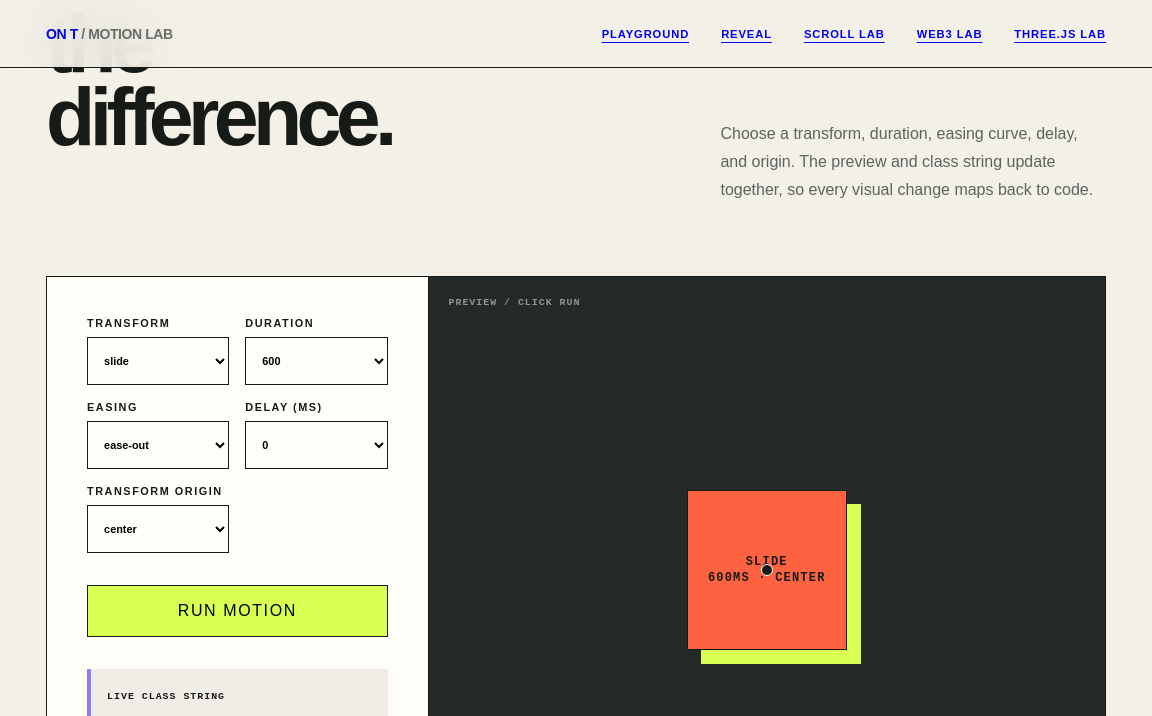
Test: MotionPracticePage › composes a motion class from the selected controls
The width and height of the screenshot is (1152, 716).
(page scrolled)
Select "pop" in the dropdown labelled "Transform" at (158, 361), box [87,337,229,385]
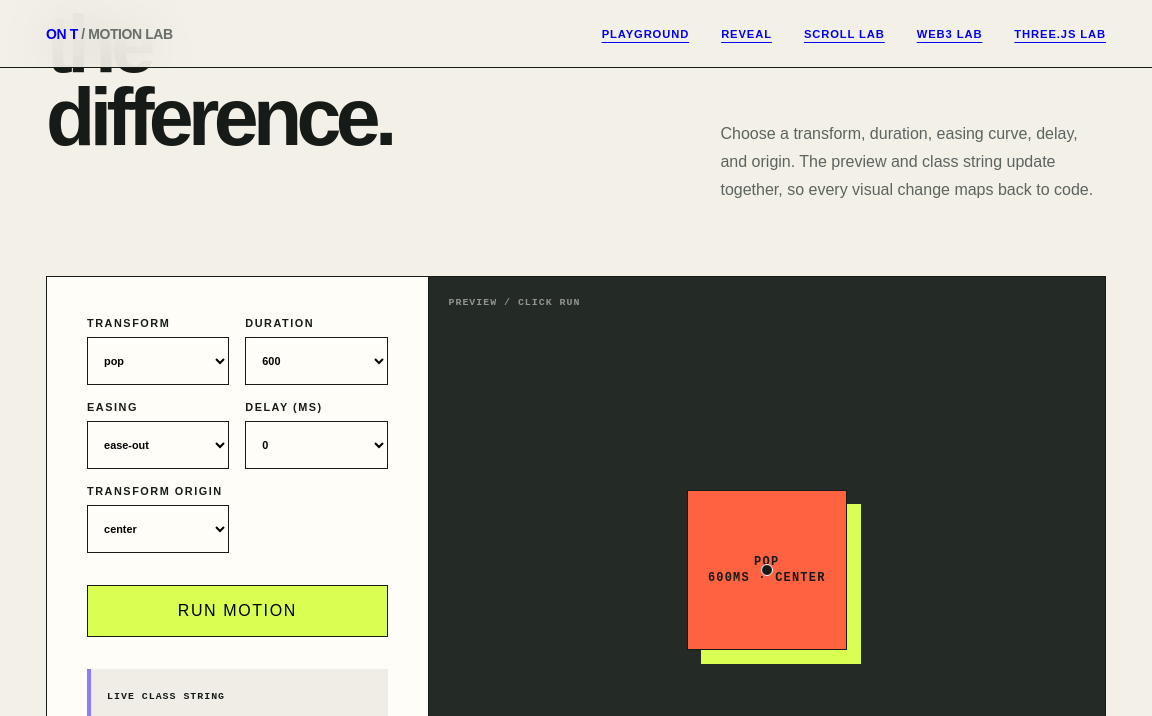
Select "1000" in the dropdown labelled "Duration" at (316, 361), box [245,337,388,385]
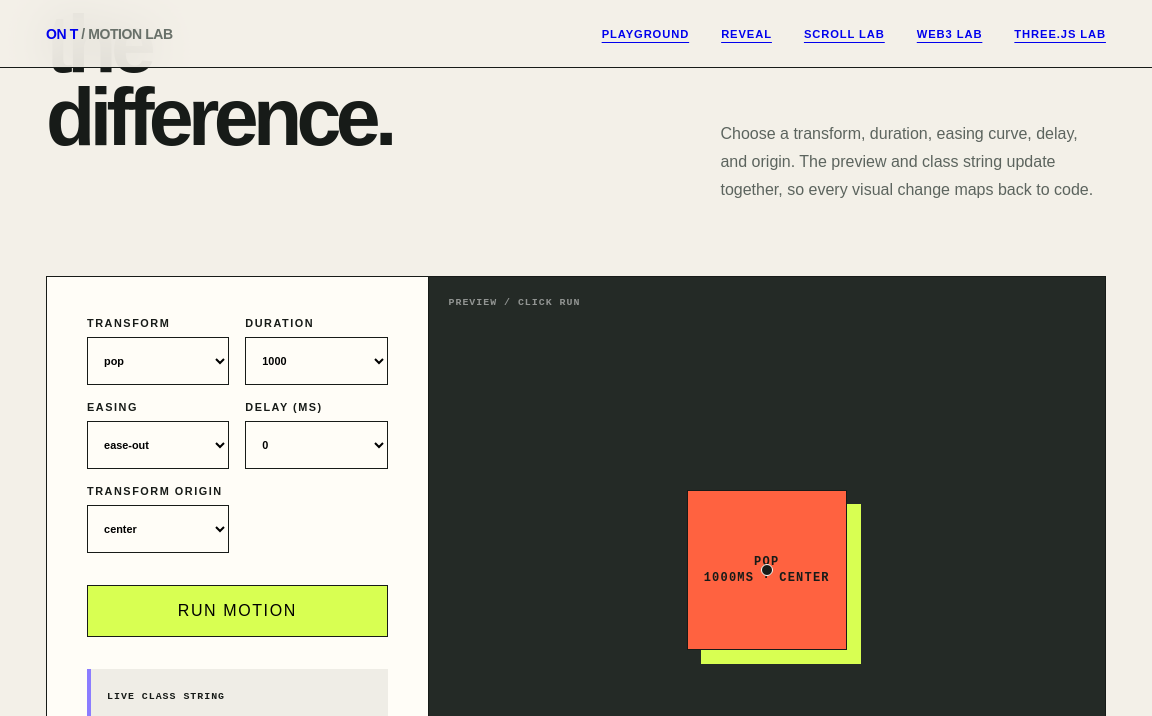
Select "150" in the dropdown labelled "Delay (ms)" at (316, 445), box [245,421,388,469]
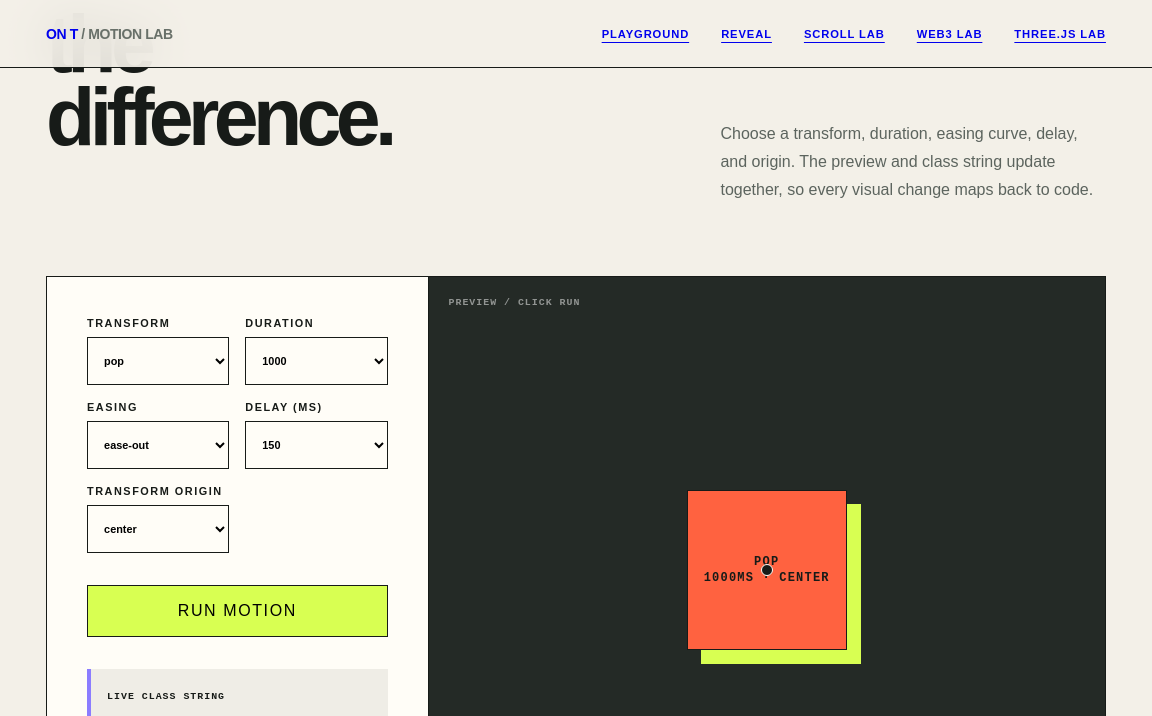
Select "top-left" in the dropdown labelled "Transform origin" at (158, 529), box [87,505,229,553]
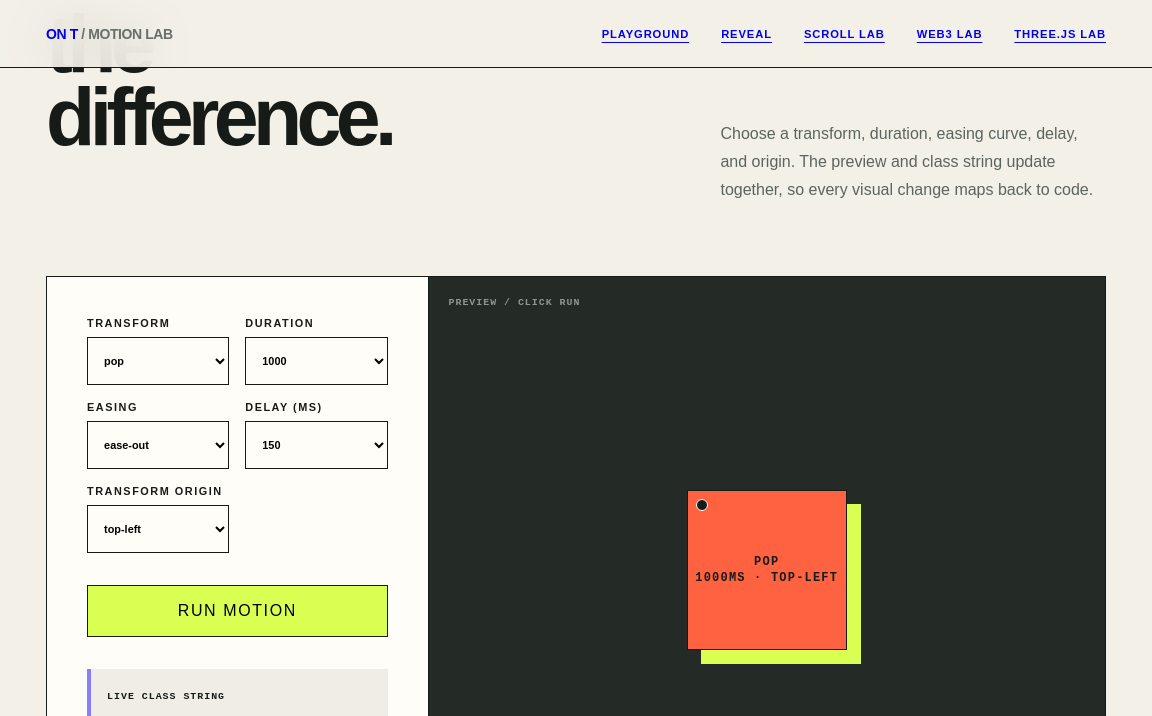
Click the button "Run motion" at (237, 611), box [87,585,388,637]
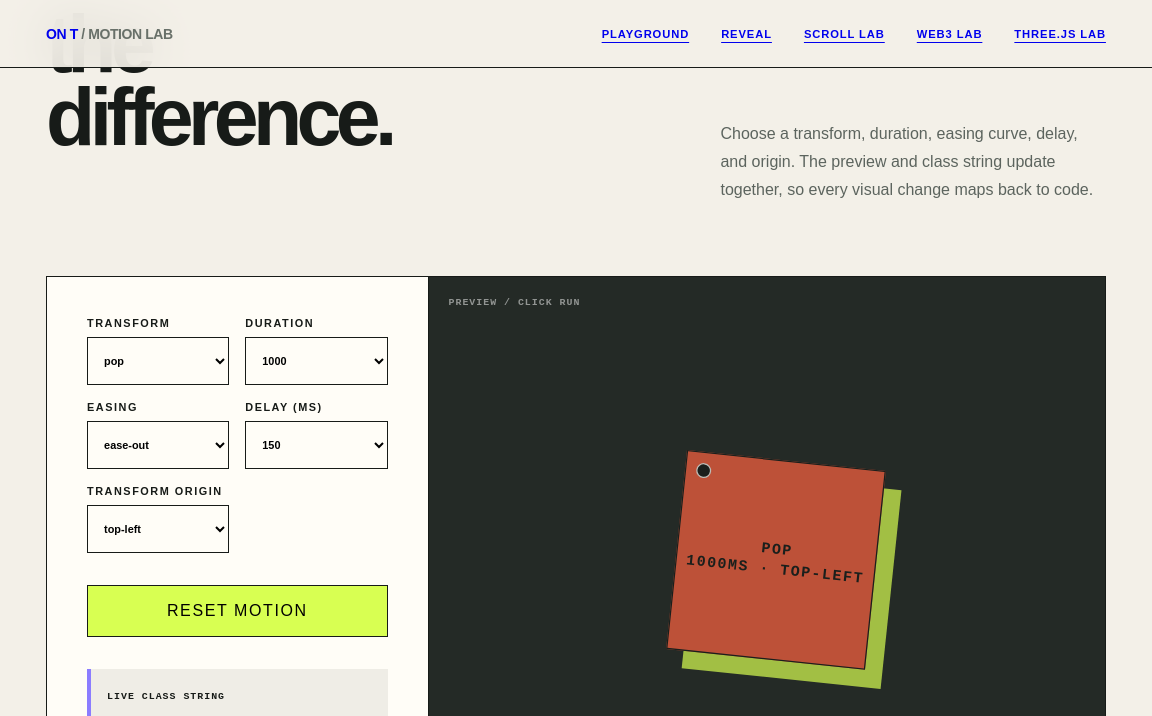
Expected: the button "Reset motion" is shown, [87,585,388,637]
